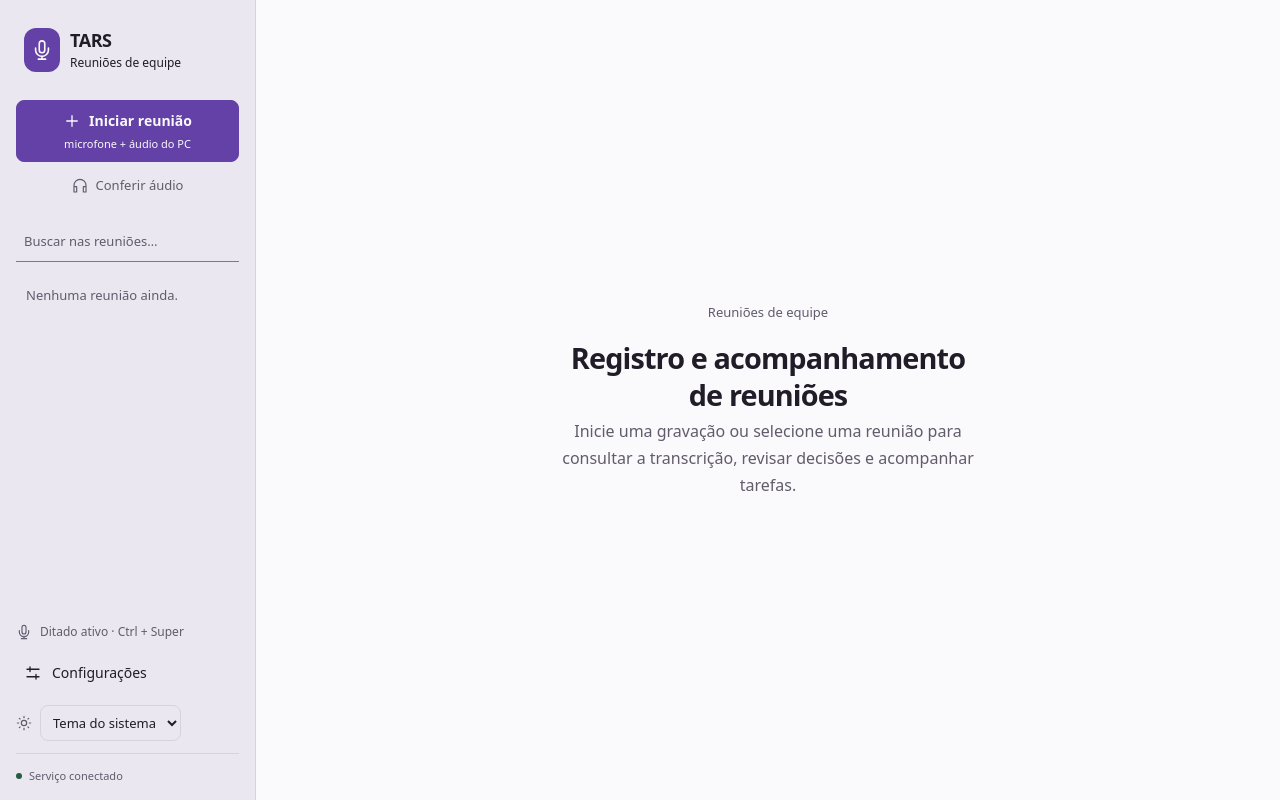
Test: Mineral shell › moves the same capture control into settings without duplicating it
Check: the number of buttons with class "rec" is 1, box [16,100,239,162]
Step 1. Click the button with class "settings-link" → (128, 672), box [16,652,239,692]
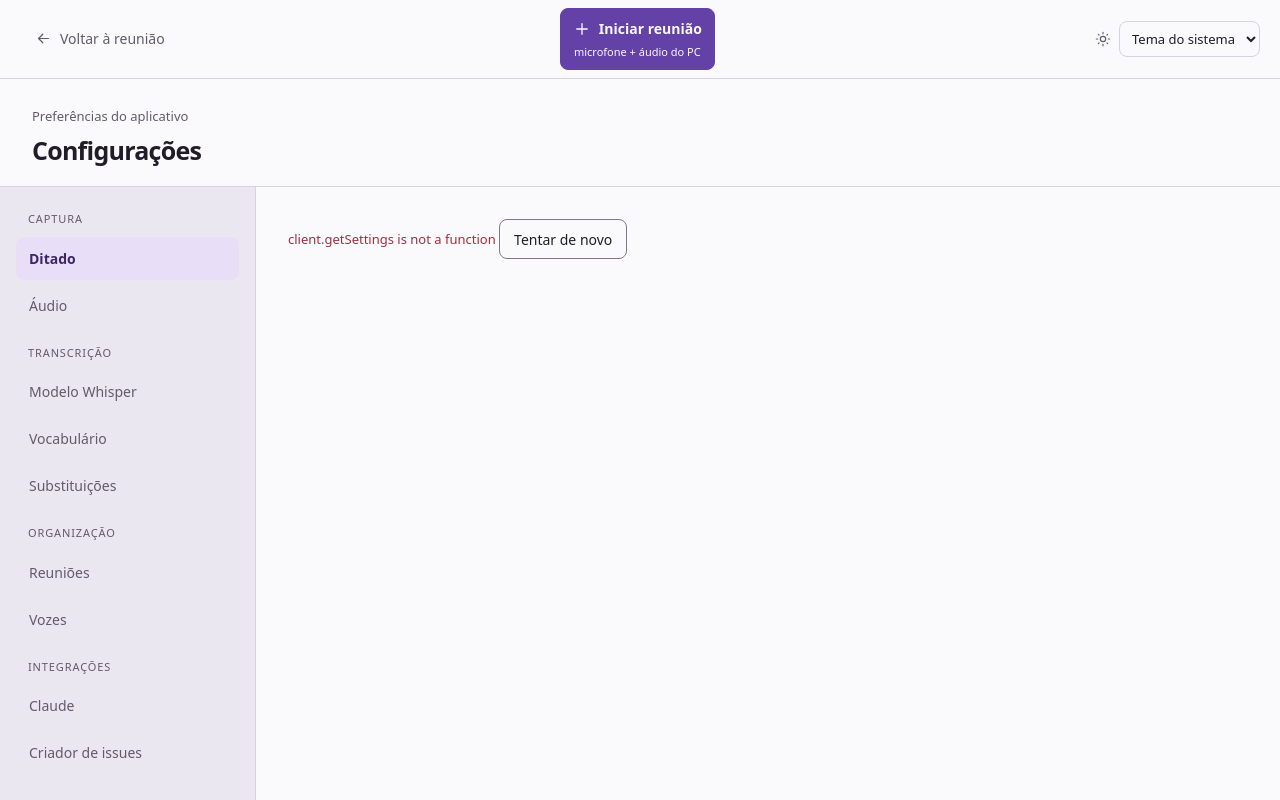
Check: the number of buttons with class "rec" is 1, box [560,8,715,70]
